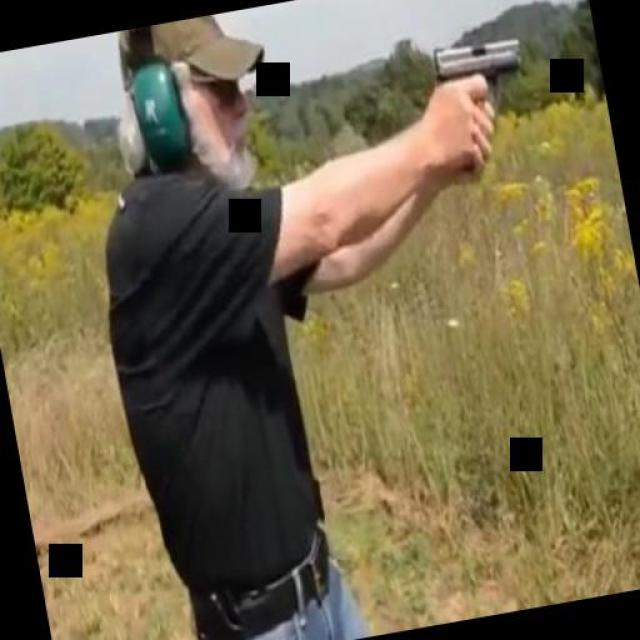gun: (424, 30, 541, 172)
